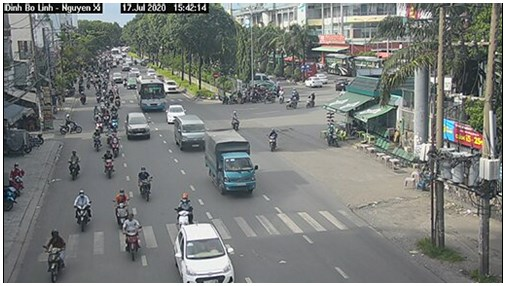xe_buyt: (136, 76, 165, 112)
xe_hoi: (172, 224, 237, 284), (125, 111, 153, 140), (166, 105, 185, 122)
xe_khach: (174, 114, 204, 153)
xe_may: (40, 228, 68, 283), (70, 188, 94, 234), (122, 213, 146, 259), (172, 192, 194, 230), (113, 187, 132, 226), (138, 167, 156, 203), (57, 114, 84, 135), (66, 149, 82, 181), (102, 148, 116, 179), (266, 127, 282, 153), (230, 109, 242, 134), (92, 129, 101, 152)
xe_tai: (202, 128, 257, 196)
